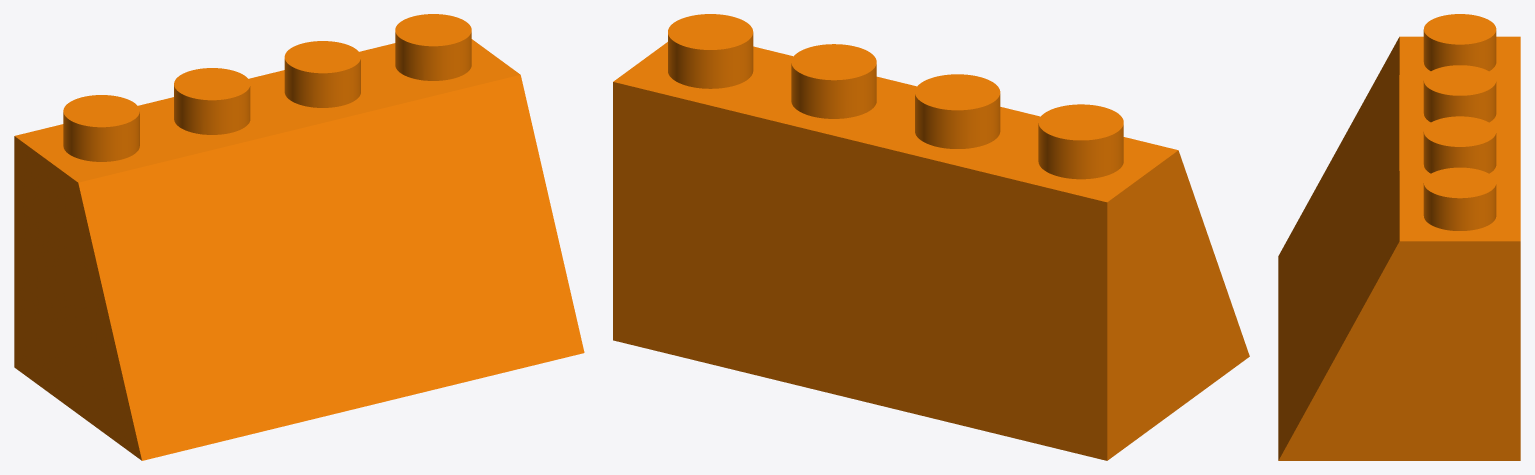
Rendered from 2x4 Ramp.glb.
3 views of the same model, side by side, from view 1: azimuth 30°, elevation 25°; view 2: azimuth 150°, elevation 25°; view 3: azimuth 270°, elevation 25° (orthographic). The views are drawn at different scales.
Parts seen in each view (by area): view 1: 2x4 Ramp; view 2: 2x4 Ramp; view 3: 2x4 Ramp.
Boxes of the visible parts, x1=… form: 2x4 Ramp: x1=14, y1=14, x2=584, y2=460; 2x4 Ramp: x1=613, y1=14, x2=1249, y2=460; 2x4 Ramp: x1=1278, y1=14, x2=1520, y2=460.
Bounding box in the file's own units: 0.04 × 0.023 × 0.02.
